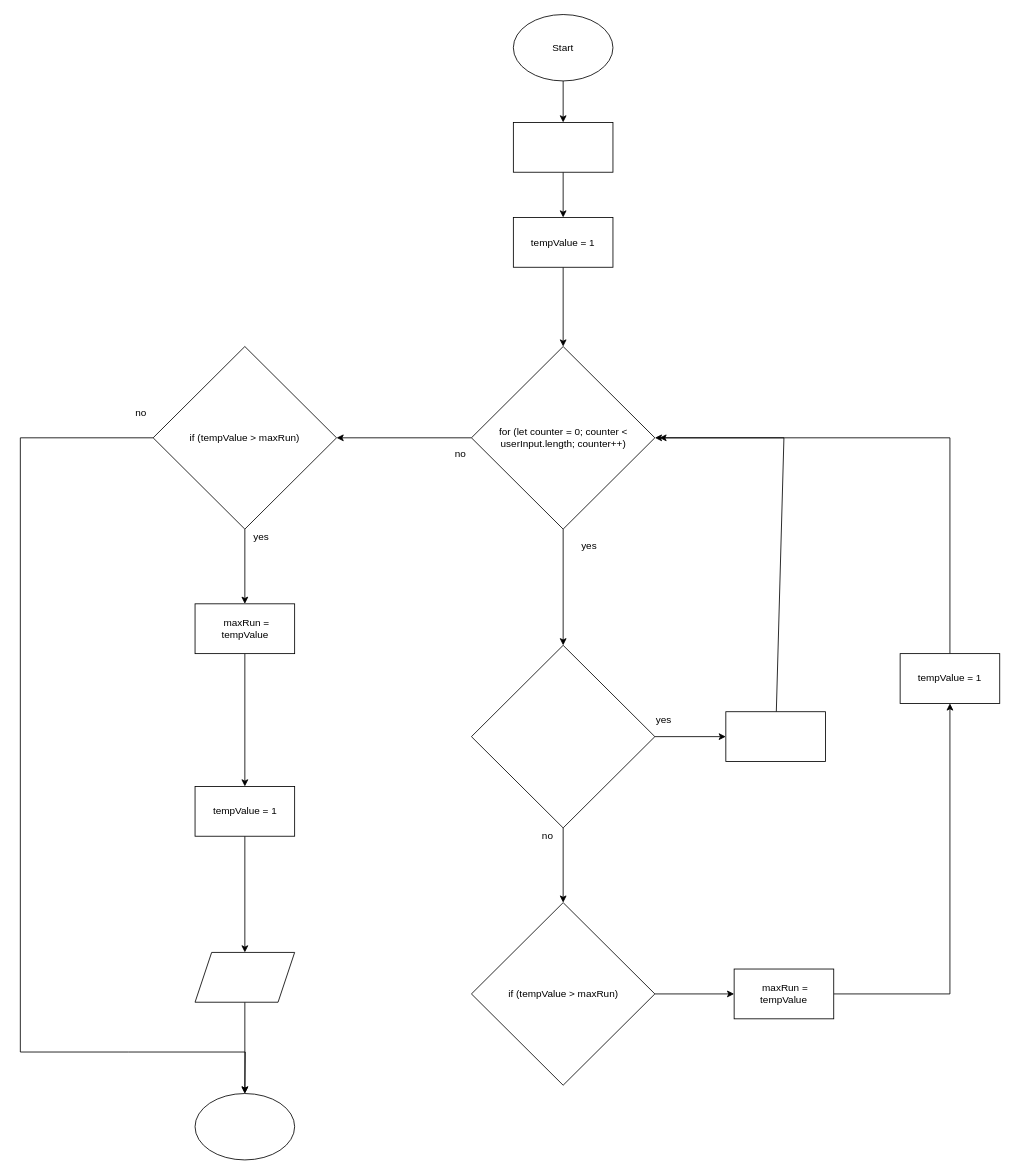
The diagram is 1014 pixels wide and 1174 high, and some of its shapes have lost their labels. Each missing label, with the centre of its shape:
"if (userInput.charAt(counter) === userInput.charAt(counter + 1))" goes at point (563, 736).
"maxRun = 1" goes at point (563, 147).
"return maxRun" goes at point (244, 977).
"Stop" goes at point (244, 1126).
"tempValue += 1" goes at point (775, 736).
